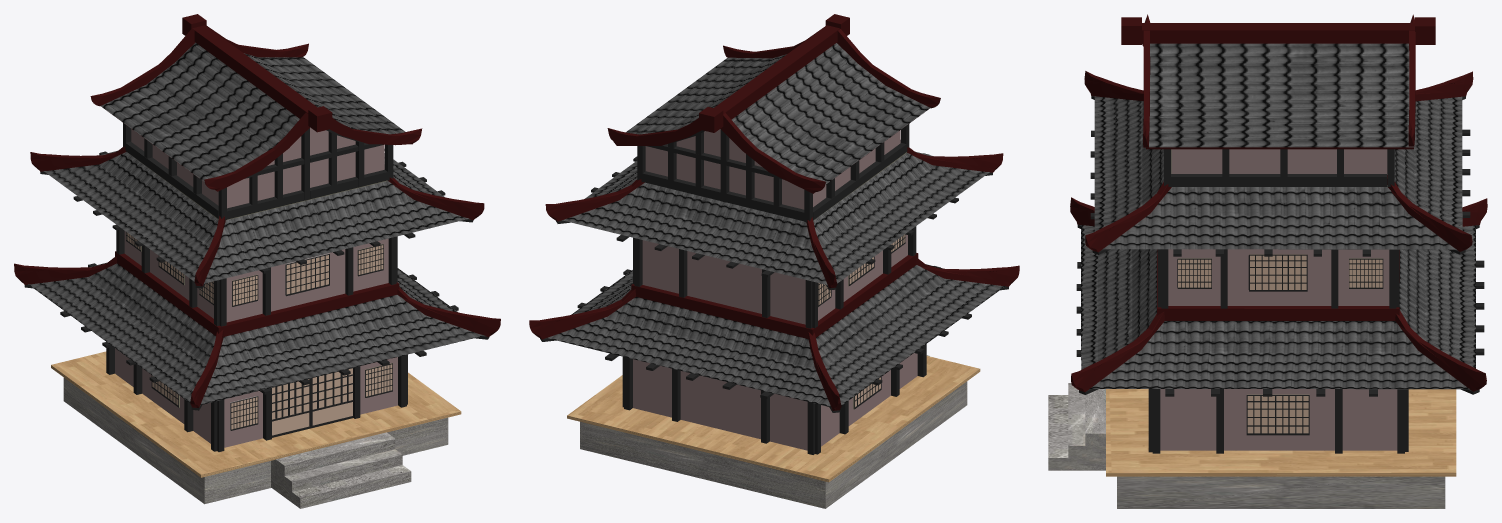
File: house_1.fbx
3 views of the same model, side by side, from view 1: azimuth 30°, elevation 25°; view 2: azimuth 150°, elevation 25°; view 3: azimuth 270°, elevation 25° (orthographic). The views are drawn at different scales.
Parts seen in each view (by area): view 1: hideout1_official; view 2: hideout1_official; view 3: hideout1_official.
Boxes of the visible parts, <box> form: hideout1_official: <box>14,14,500,508</box>; hideout1_official: <box>529,14,1019,508</box>; hideout1_official: <box>1048,14,1487,508</box>.
Bounding box in the file's own units: 76.36 × 84.26 × 80.25.
10 materials, 3 textured.
